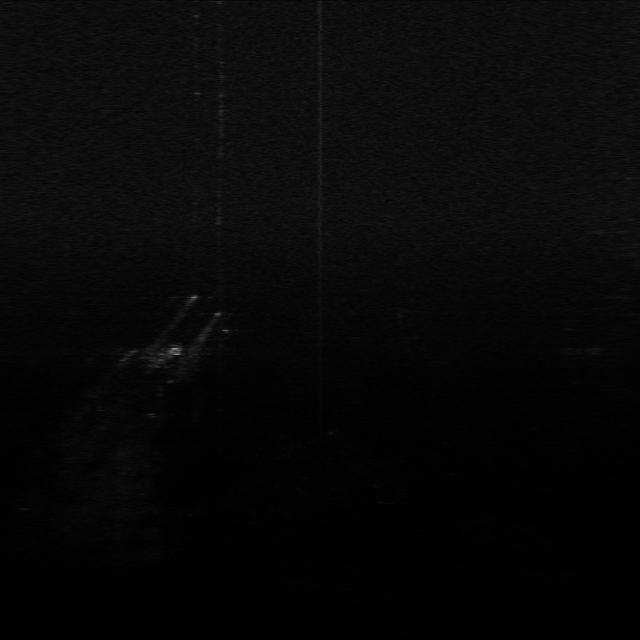rov: (166, 347, 184, 358)
